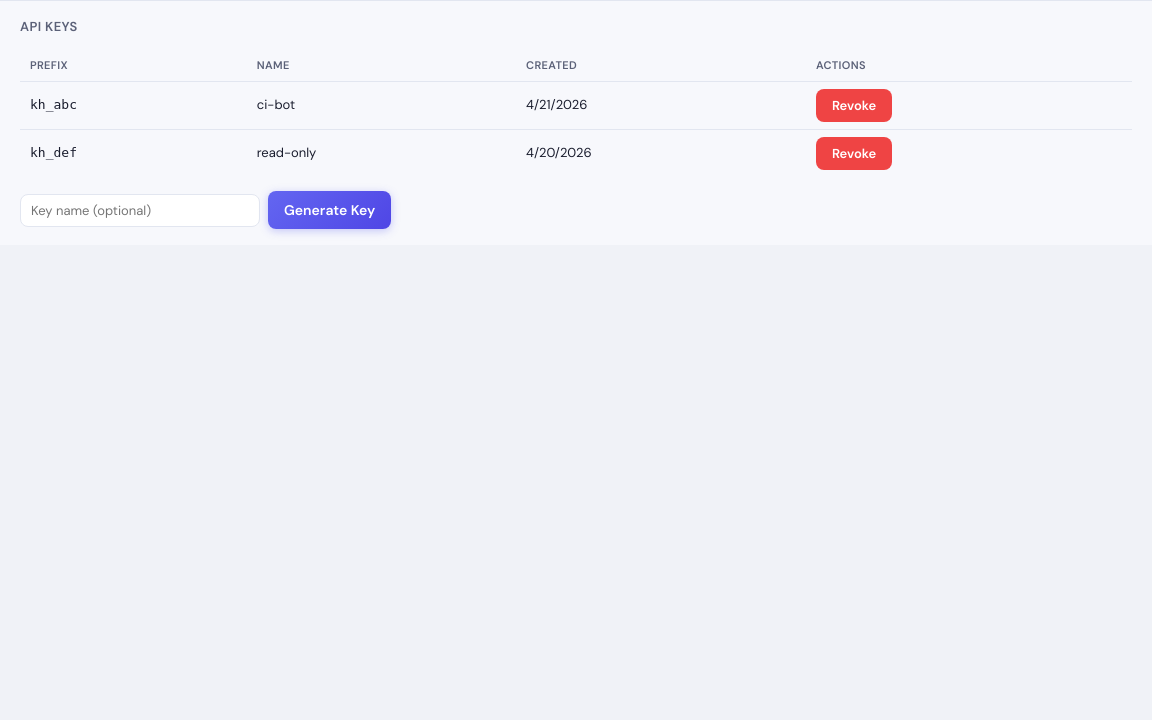
Test case: ApiKeyPanel › revoke failure shows inline error, key stays in list
Expected: the text "kh_abc" is shown, [30, 98, 77, 112]
Step 1. Click the button "Revoke" in the row of "kh_abc" → (854, 106), box [816, 89, 892, 122]
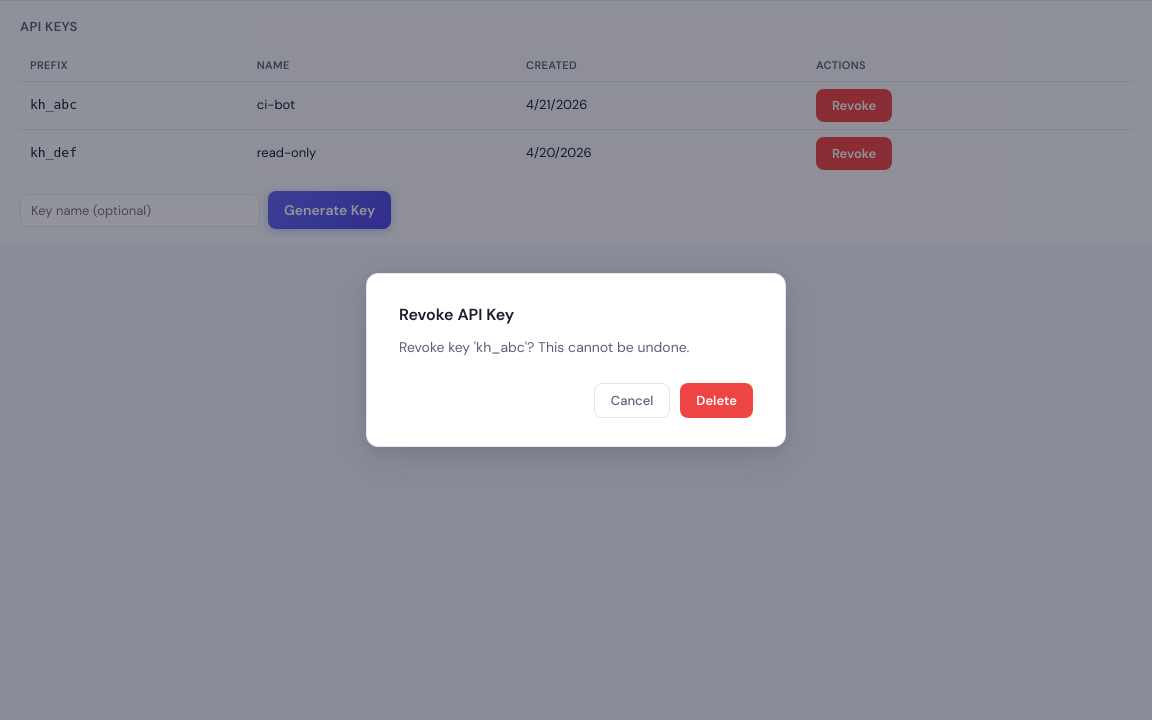
Expected: the element with class "confirm-dialog" is shown, [366, 273, 786, 447]
Step 2. Click the button with class "btn-danger" showing "Delete" → (717, 401), box [680, 383, 753, 418]
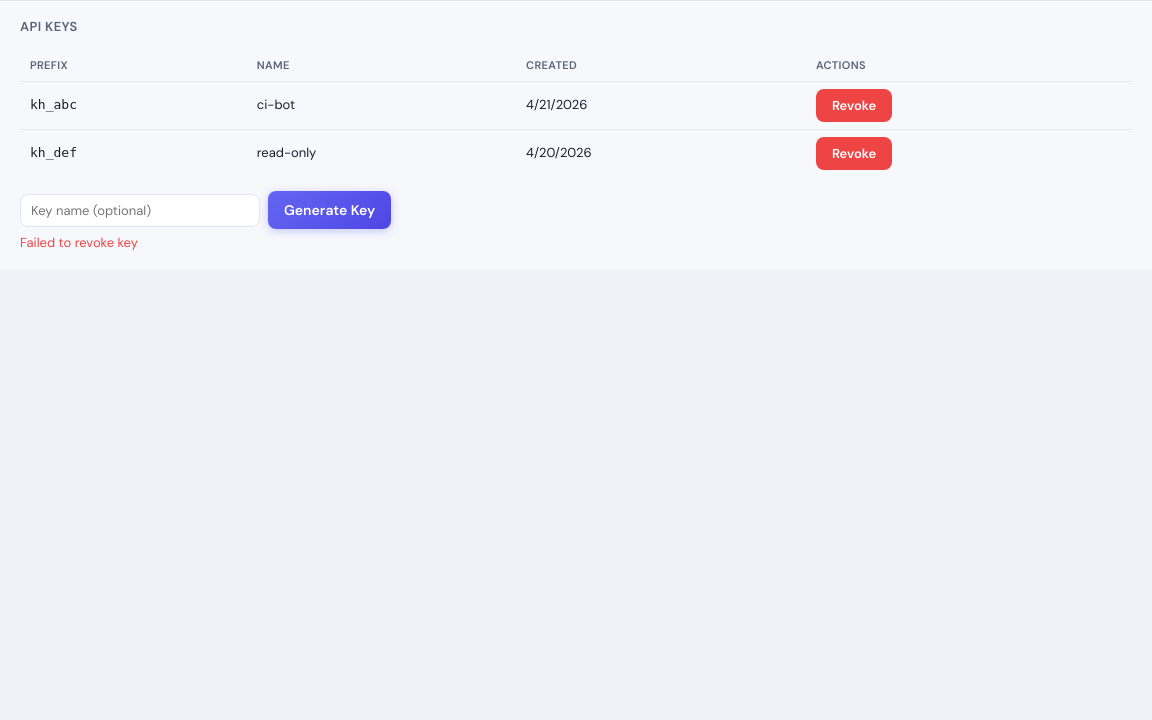
Expected: the text "kh_abc" is shown, [30, 98, 77, 112]
Expected: the text "Failed to revoke key" is shown, [20, 234, 138, 251]
